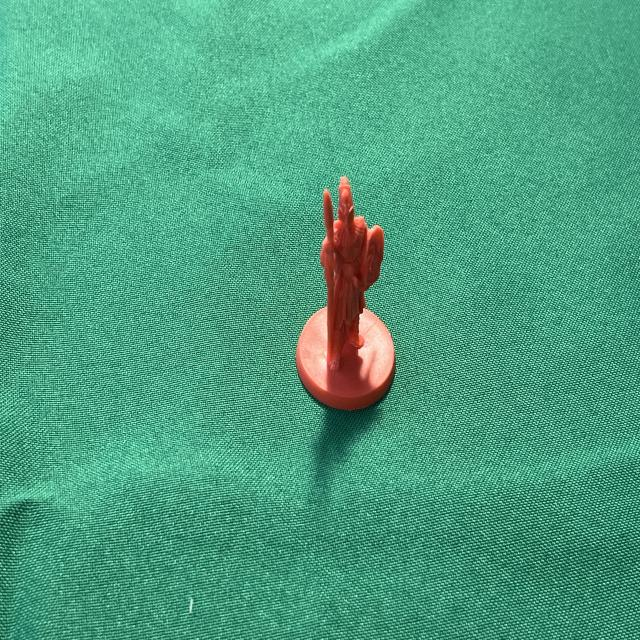amon_follower: (296, 177, 395, 410)
